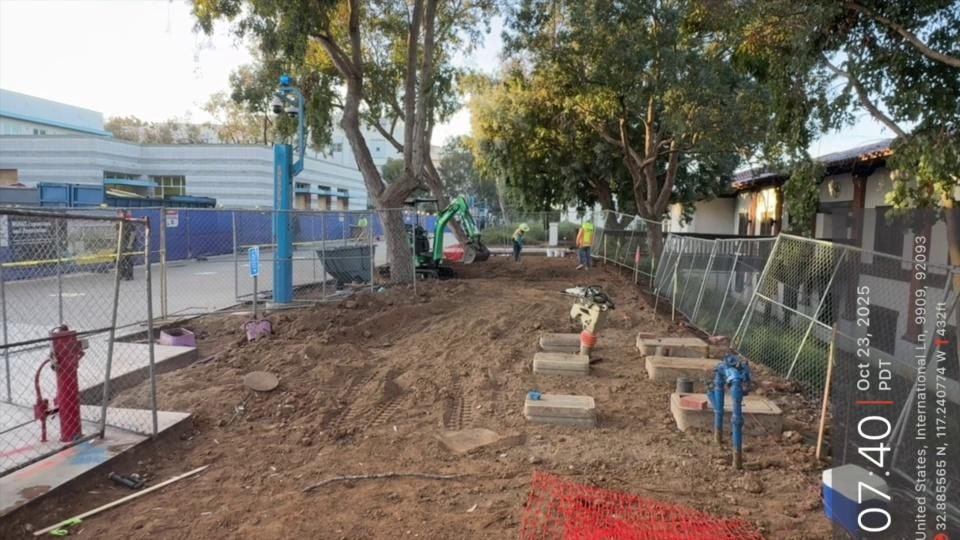Exacavator: (411, 182, 495, 290)
